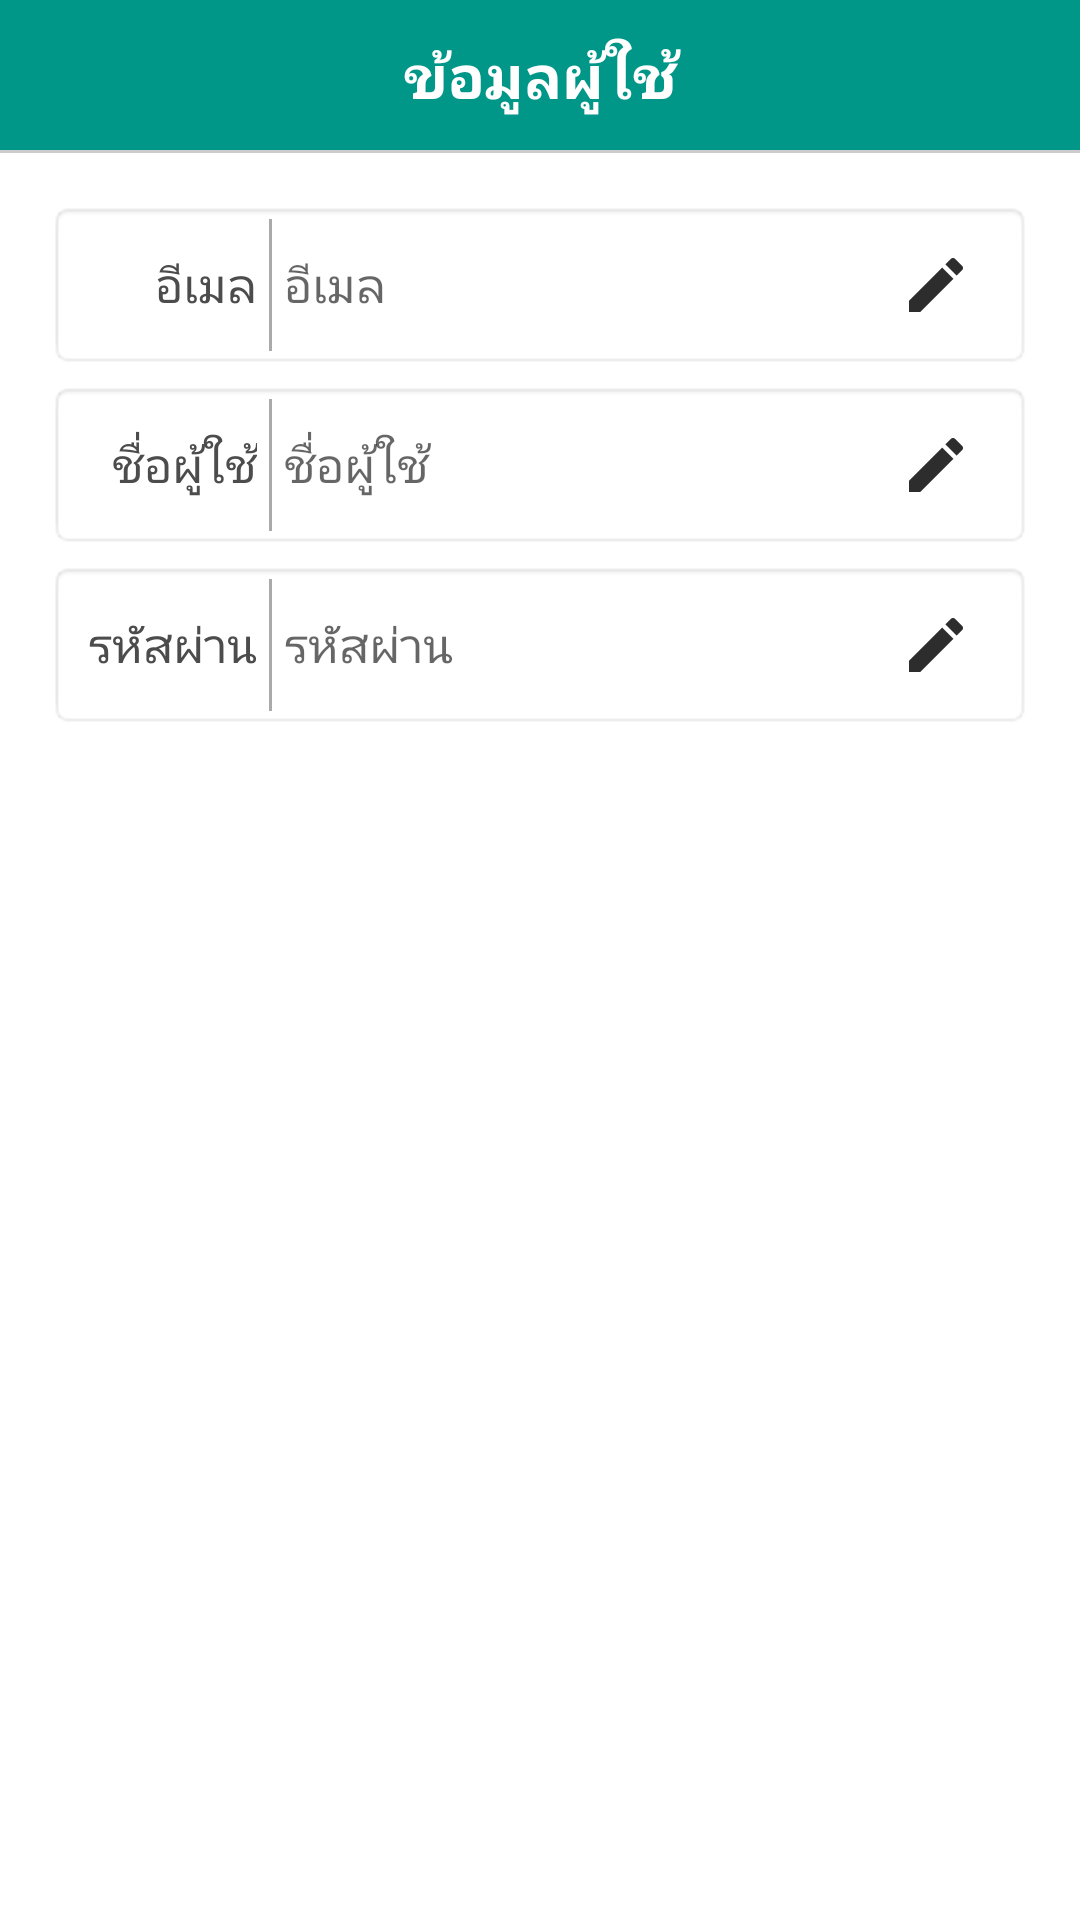

Named icons in this screenshot (1080px×1920px) and their centers, (x=x, y=y):
content create: (x=936, y=285), (x=936, y=465), (x=936, y=645)
